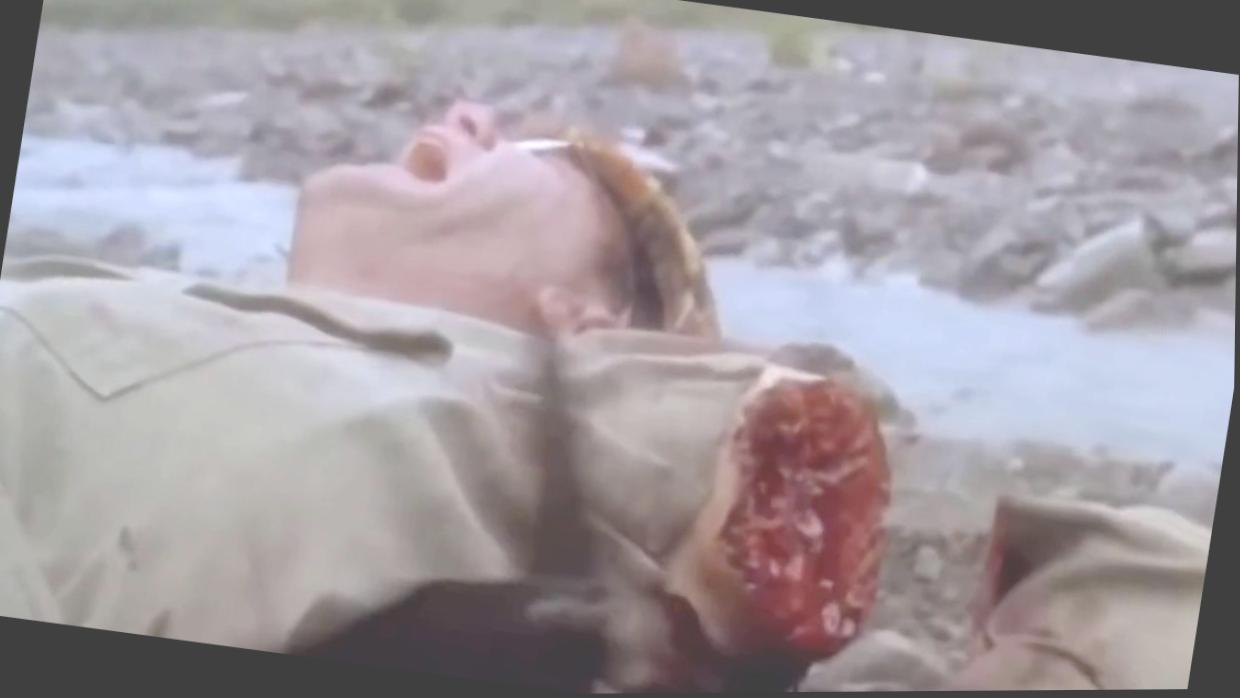Fire: (723, 381, 893, 662)
